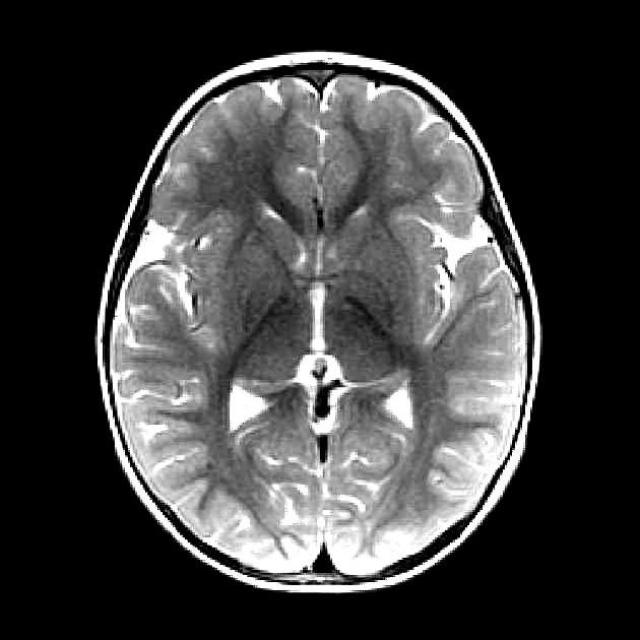no-tumor: (174, 193, 456, 533)
